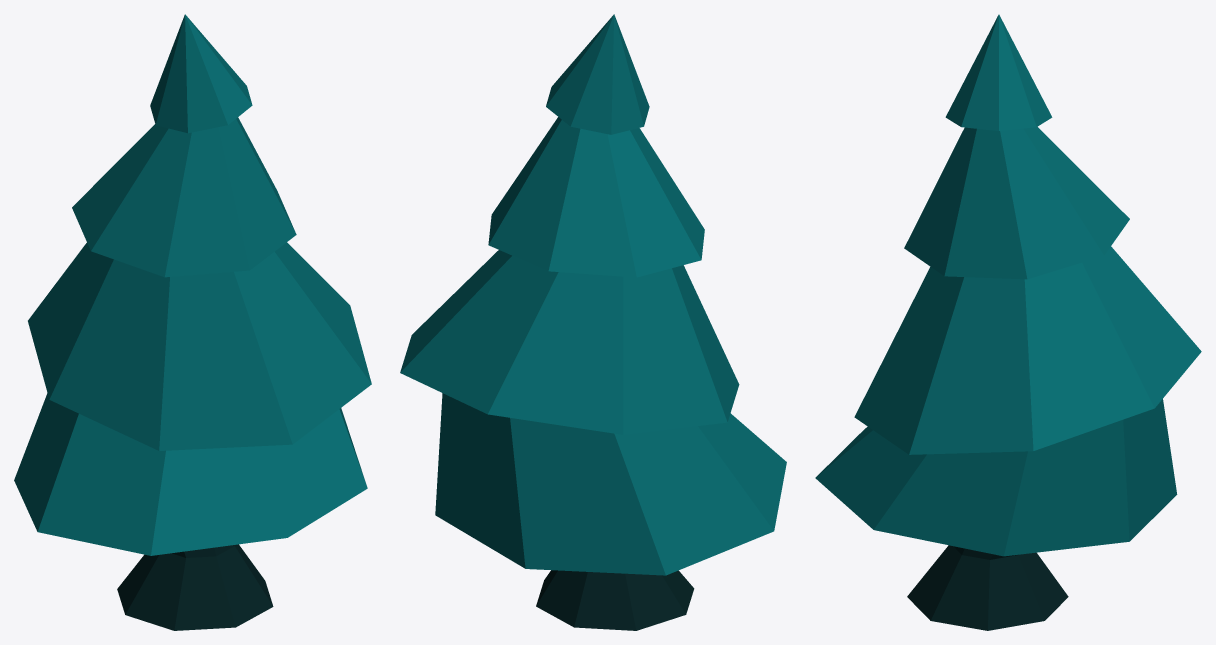
The model's file is CyanTree1.fbx.
3 views of the same model, side by side, from view 1: azimuth 30°, elevation 25°; view 2: azimuth 150°, elevation 25°; view 3: azimuth 270°, elevation 25° (orthographic).
Visible parts, largest first — view 1: Cylinder; view 2: Cylinder; view 3: Cylinder.
Boxes of the visible parts, box(x1,y1,x2,y2) form: Cylinder: box(14, 14, 371, 630); Cylinder: box(400, 14, 786, 630); Cylinder: box(815, 14, 1201, 630).
Bounding box in the file's own units: 582 × 964 × 582.
